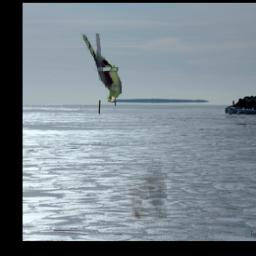Cuckoo: (80, 34, 123, 102)
Woodpecker: (120, 61, 168, 219)
